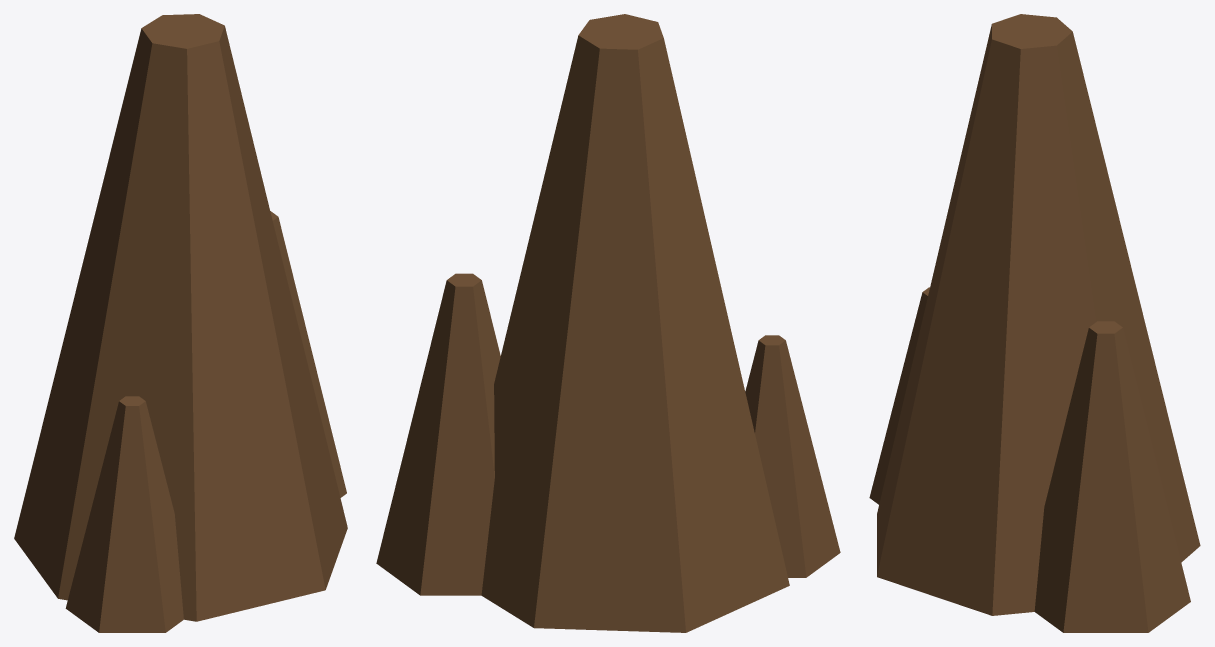
The model's file is Termitero.fbx.
The picture shows the model from 3 angles, left to right: view 1: azimuth 30°, elevation 25°; view 2: azimuth 150°, elevation 25°; view 3: azimuth 270°, elevation 25°; orthographic projection. The views are drawn at different scales.
Visible parts, largest first — view 1: Termitero; view 2: Termitero; view 3: Termitero.
Boxes of the visible parts, box(x1,y1,x2,y2) form: Termitero: box(14, 14, 347, 632); Termitero: box(376, 14, 840, 632); Termitero: box(869, 14, 1200, 632).
Size of the model in its own units: 0.9964 by 1.5 by 0.875.
